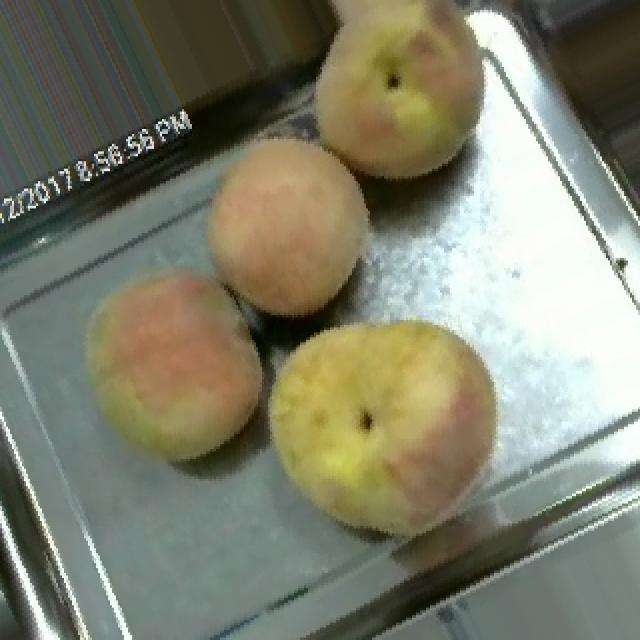Fruit: (228, 273, 546, 573), (48, 236, 294, 498), (170, 107, 406, 340), (274, 0, 518, 213)
